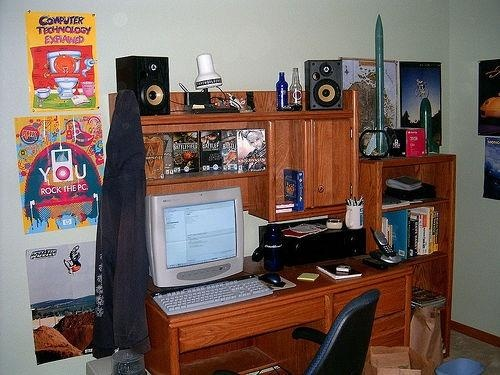bottle: (290, 68, 305, 107), (277, 70, 289, 111)
chair: (216, 289, 380, 375)
tvmonitor: (144, 187, 246, 287)
